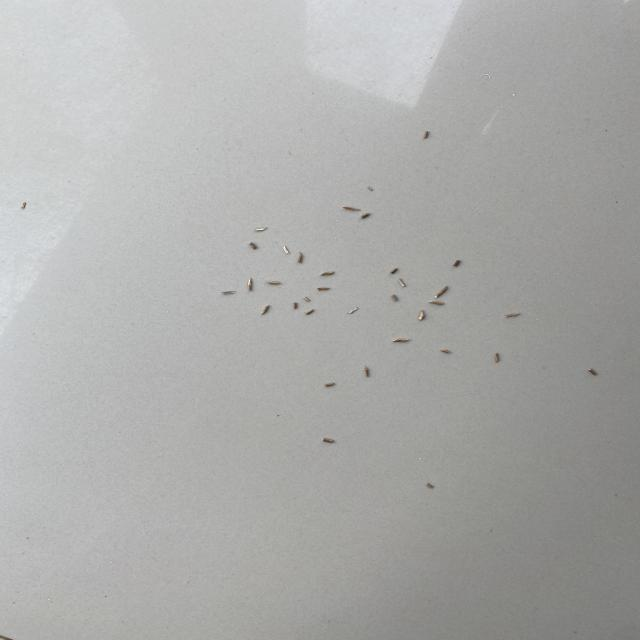Wereng: (358, 365, 382, 383), (316, 433, 345, 446), (432, 285, 454, 302), (338, 200, 364, 214), (490, 347, 506, 368), (421, 479, 440, 496), (242, 238, 264, 252), (499, 311, 526, 322), (386, 290, 404, 306), (347, 305, 368, 318), (416, 307, 432, 324), (423, 125, 438, 143), (251, 224, 275, 235), (392, 336, 414, 348), (322, 379, 342, 392), (394, 277, 412, 291), (450, 256, 466, 271), (296, 248, 310, 265), (437, 344, 454, 358), (298, 292, 316, 305), (428, 299, 449, 310), (266, 278, 286, 289), (318, 268, 340, 278), (386, 265, 406, 276), (16, 196, 30, 211), (316, 284, 336, 294), (304, 306, 318, 320), (586, 366, 601, 379), (286, 300, 302, 312), (247, 276, 257, 295), (363, 182, 378, 193), (261, 305, 273, 318), (281, 244, 293, 256), (360, 210, 374, 220), (222, 287, 236, 297)
